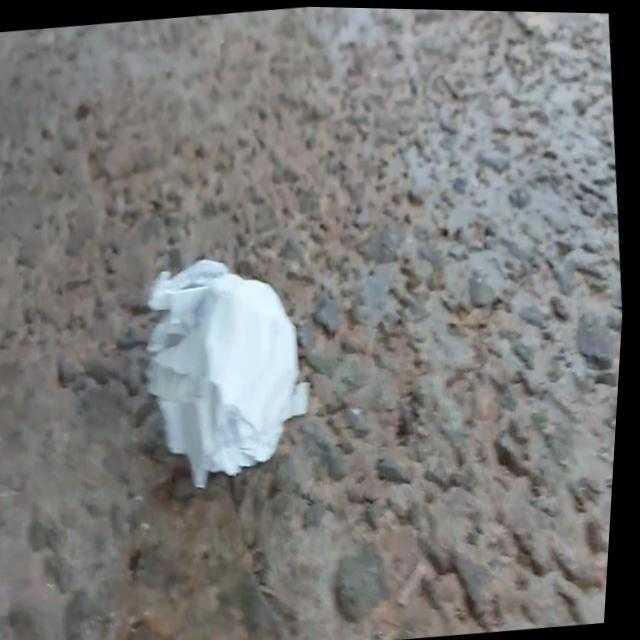paper: (148, 259, 308, 487)
